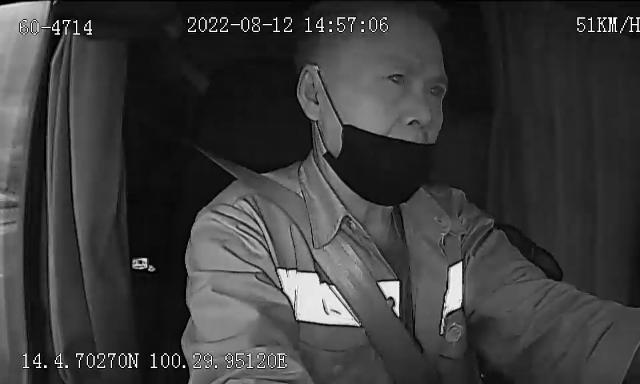SafeDriving: (377, 60, 412, 93), (419, 74, 452, 104)
Seatbelt: (202, 132, 462, 384)
